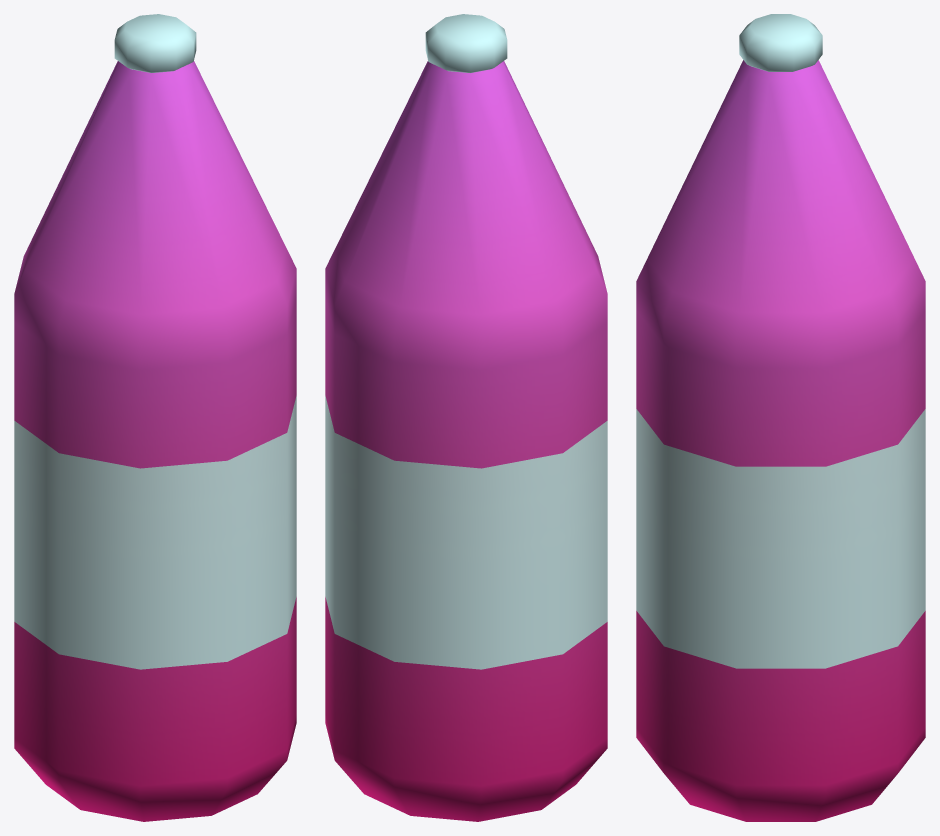
Rendered from cleaning_bottle_magenta.fbx.
The picture shows the model from 3 angles, left to right: view 1: azimuth 30°, elevation 25°; view 2: azimuth 150°, elevation 25°; view 3: azimuth 270°, elevation 25°; orthographic projection.
Parts seen in each view (by area): view 1: cleaning_bottle_magenta; view 2: cleaning_bottle_magenta; view 3: cleaning_bottle_magenta.
Part boxes in pixels (x1,y1,x2,y2): cleaning_bottle_magenta: [14, 14, 296, 821]; cleaning_bottle_magenta: [325, 14, 607, 821]; cleaning_bottle_magenta: [636, 14, 925, 821].
Bounding box in the file's own units: 113 × 340 × 119.
